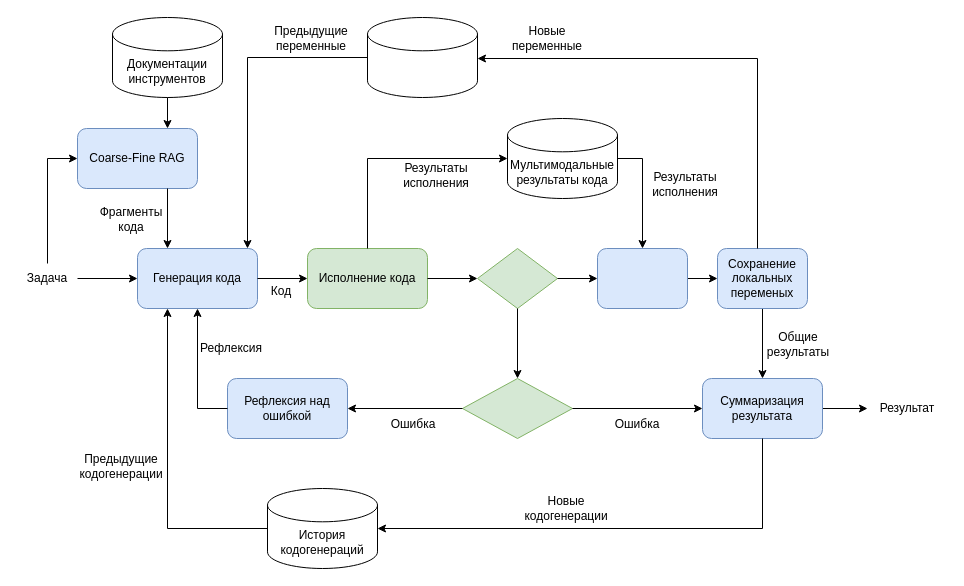
Some shapes in this 964 by 586 pixel diagram are drawn without their labels. The shapes that lost their labels are listed below. From the top down, each one's box as (x1, y1, x2, y2) in pixels, then its label:
(366, 16, 478, 98): Локальные переменные
(476, 248, 558, 308): Ошибка?
(596, 248, 688, 308): БФМ анализа модальностей
(462, 378, 572, 438): Превышено число генераций?
